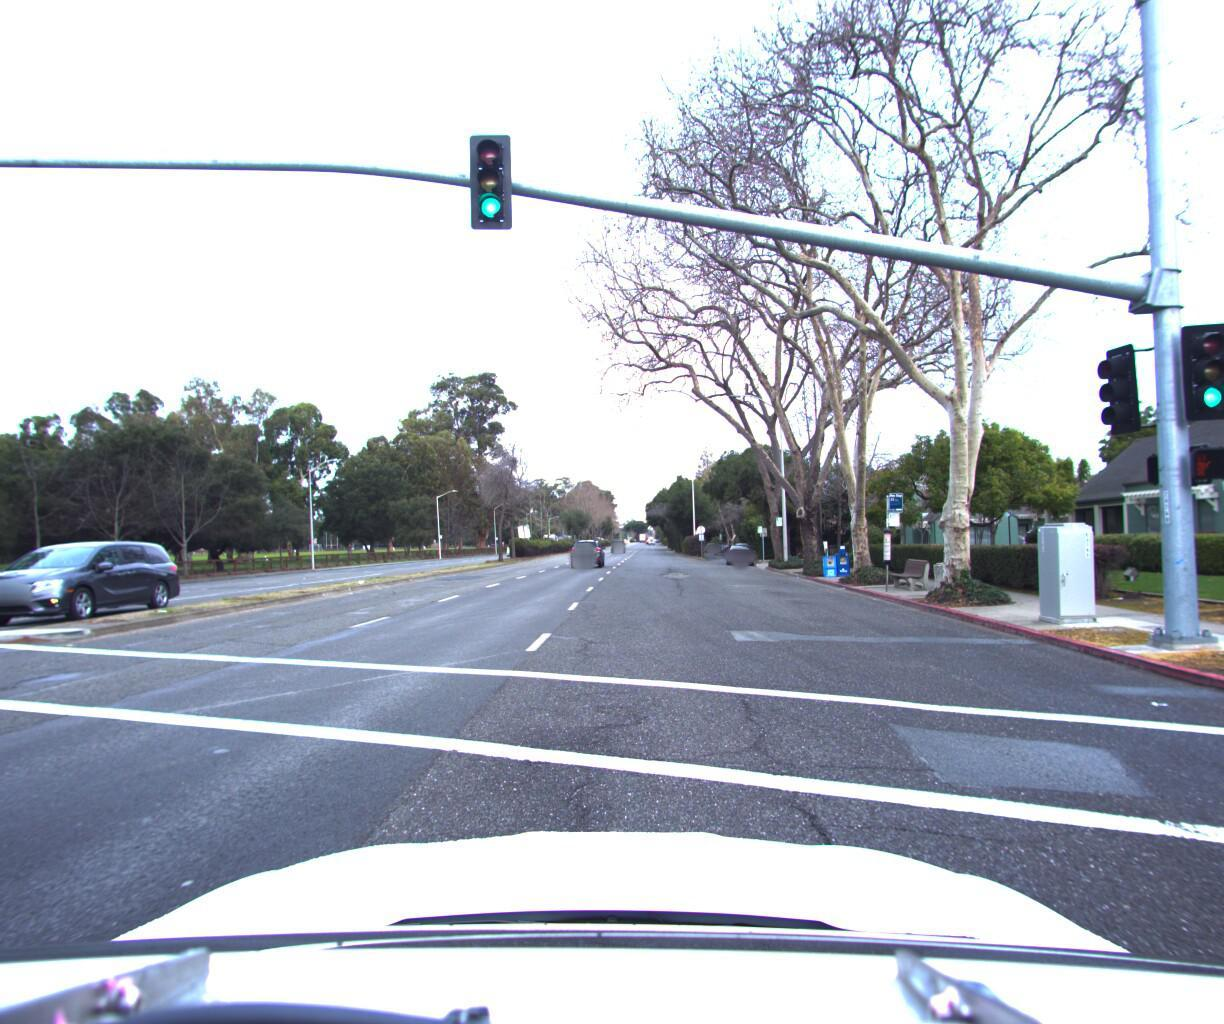car: (0, 533, 193, 633), (569, 533, 607, 565), (724, 536, 754, 561)
